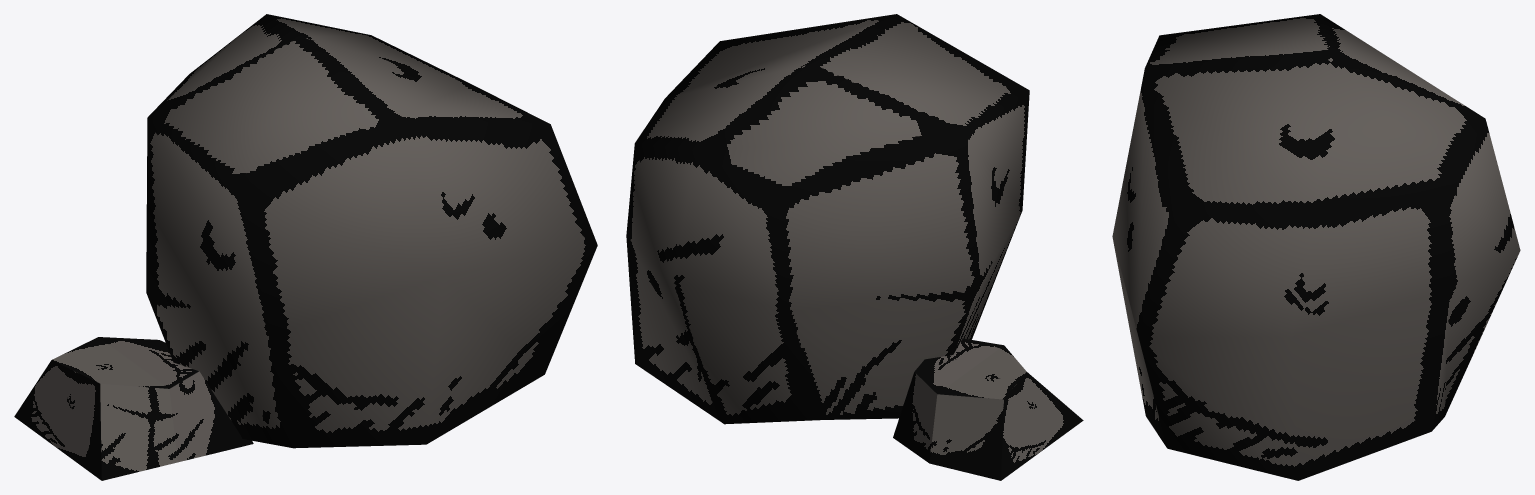
The model's file is Rock01.glb.
The picture shows the model from 3 angles, left to right: view 1: azimuth 30°, elevation 25°; view 2: azimuth 150°, elevation 25°; view 3: azimuth 270°, elevation 25°; orthographic projection. The views are drawn at different scales.
Visible parts, largest first — view 1: Rock01; view 2: Rock01; view 3: Rock01.
Part boxes in pixels (x1=…): Rock01: x1=14, y1=14, x2=597, y2=480; Rock01: x1=626, y1=14, x2=1083, y2=480; Rock01: x1=1112, y1=14, x2=1520, y2=480.
Size of the model in its own units: 3.48 by 2.67 by 2.77.
Materials: 1 (1 with a texture image).
